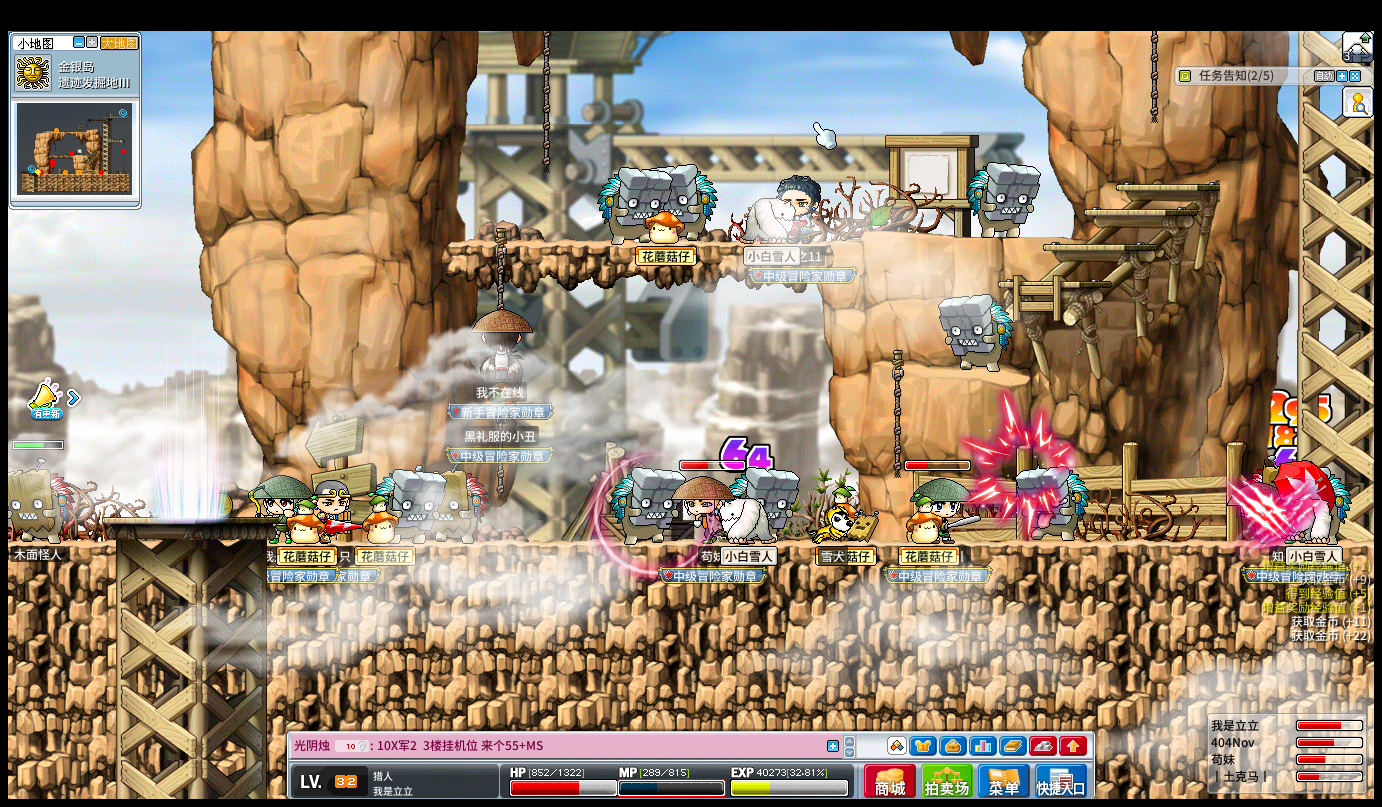floor: (266, 538, 1374, 552), (437, 238, 835, 250), (917, 365, 1032, 386), (926, 233, 1078, 245), (7, 538, 119, 550), (101, 518, 282, 525), (1080, 207, 1194, 216), (999, 279, 1106, 287), (1042, 243, 1158, 250), (1116, 184, 1220, 191), (1115, 183, 1218, 190)
monster: (937, 294, 1012, 373), (967, 162, 1042, 240), (1017, 465, 1089, 541), (599, 167, 666, 244), (609, 469, 677, 544), (6, 464, 71, 540), (375, 469, 441, 531), (435, 465, 486, 541), (667, 165, 718, 239)
rope: (889, 350, 903, 478), (492, 229, 506, 312), (543, 30, 551, 175), (1148, 31, 1157, 123)
